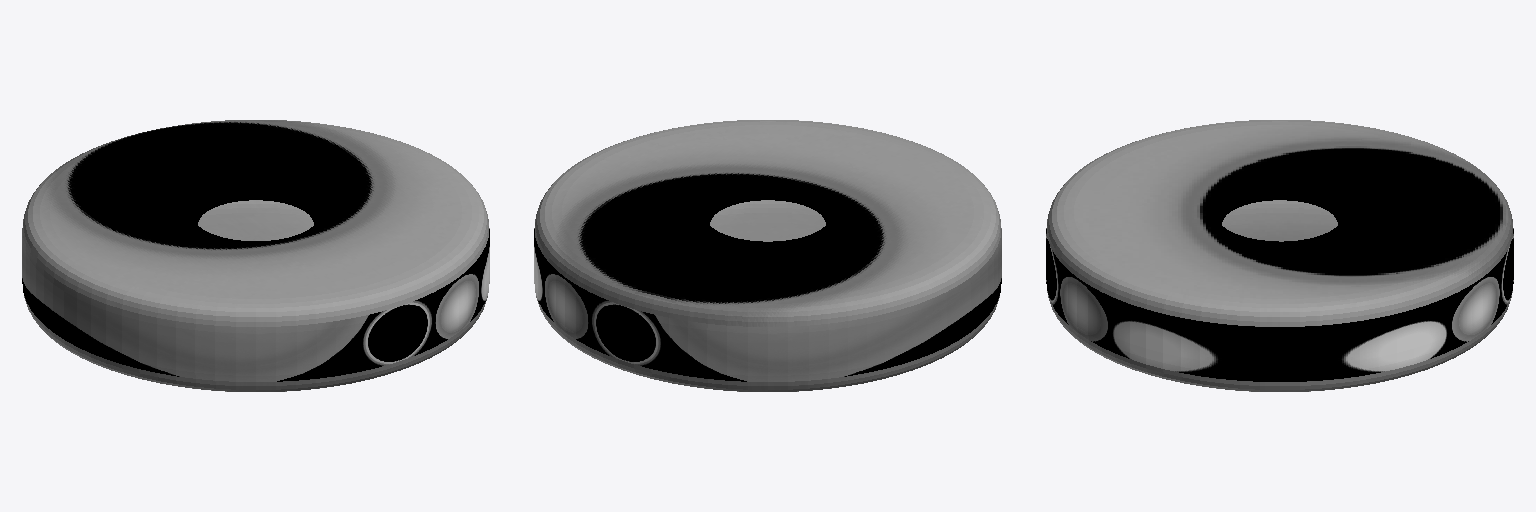
The picture shows the model from 3 angles: view 1: azimuth 30°, elevation 25°; view 2: azimuth 150°, elevation 25°; view 3: azimuth 270°, elevation 25°; orthographic projection.
Visible parts, largest first — view 1: model_0:Mesh; view 2: model_0:Mesh; view 3: model_0:Mesh.
Part boxes in pixels (x1,y1,x2,y2): model_0:Mesh: (22, 120, 489, 391); model_0:Mesh: (534, 120, 1001, 391); model_0:Mesh: (1046, 120, 1513, 391).
Size of the model in its own units: 120 by 25.09 by 120.
Materials: 1 (1 with a texture image).